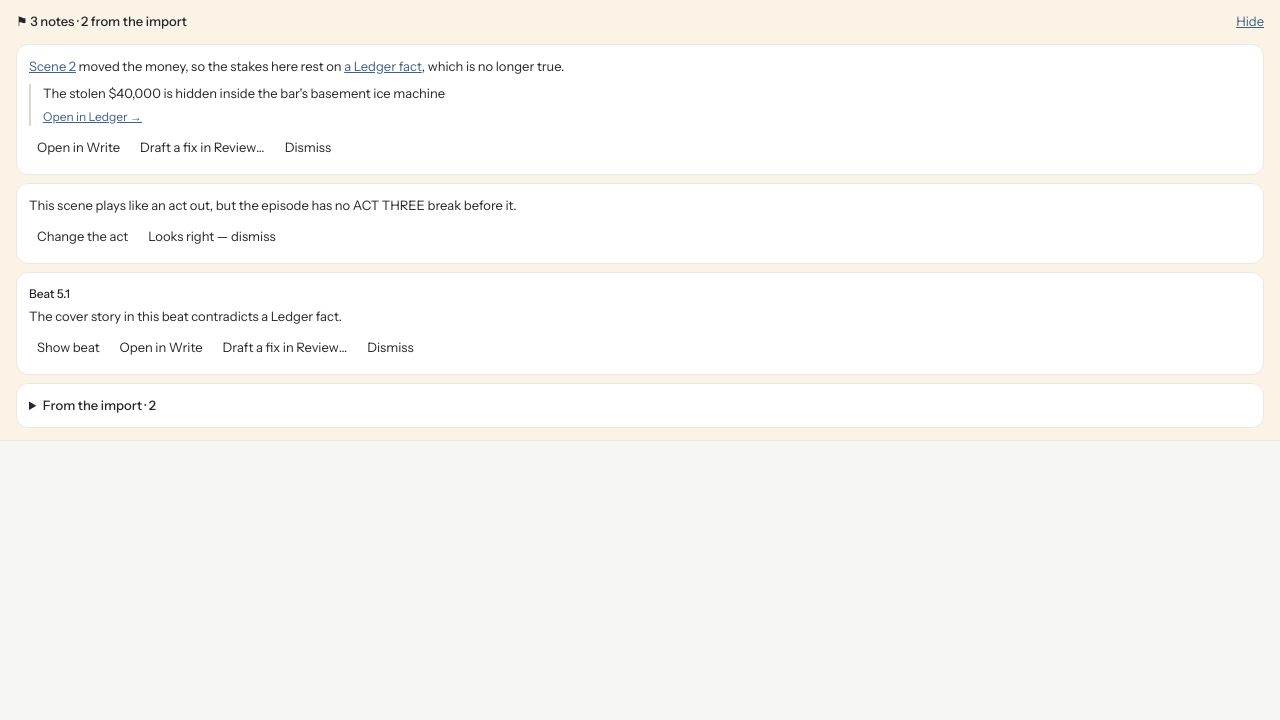
NotesStrip › a failed send shows writer copy for its code, never the server message (0)
Click the button "Draft a fix in Review…" below ", which is no longer true.".
click(202, 148)  # box [132, 134, 273, 162]
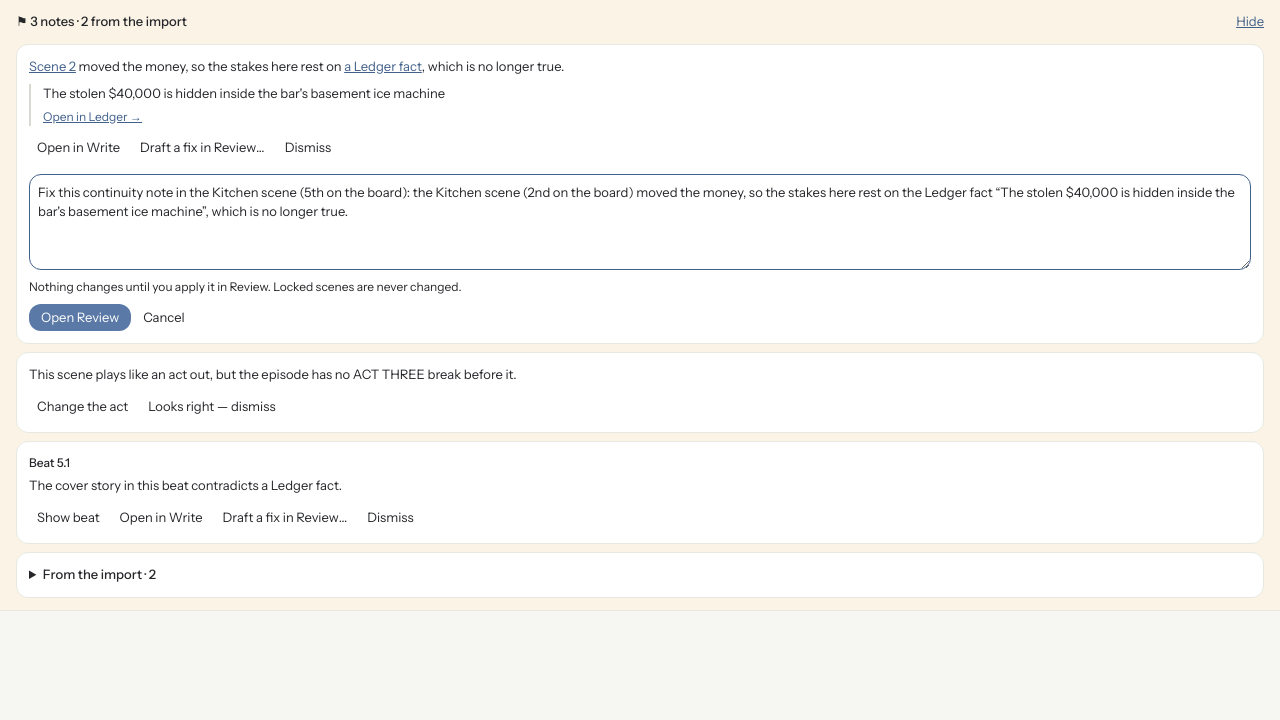
Click the button "Open Review".
click(80, 317)  # box [29, 304, 131, 331]
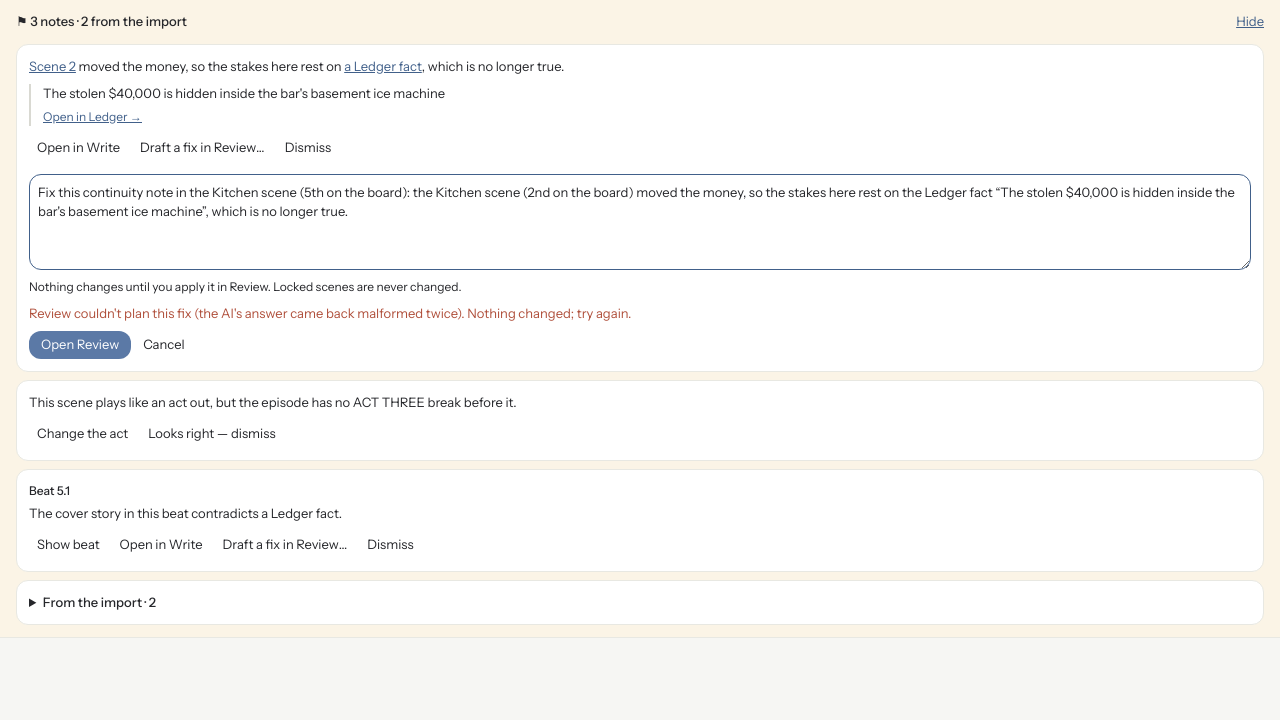
expect the message shows "Review couldn't plan this fix (the AI's answer came back malformed twice). Nothing changed; try again.": met, box [29, 304, 631, 320]
